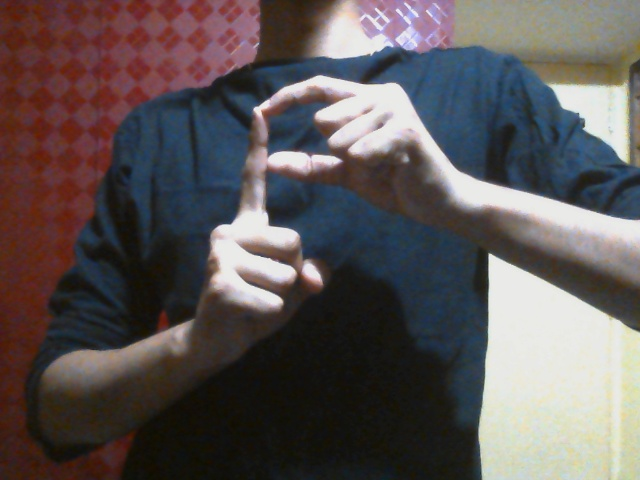P: (198, 72, 461, 369)
